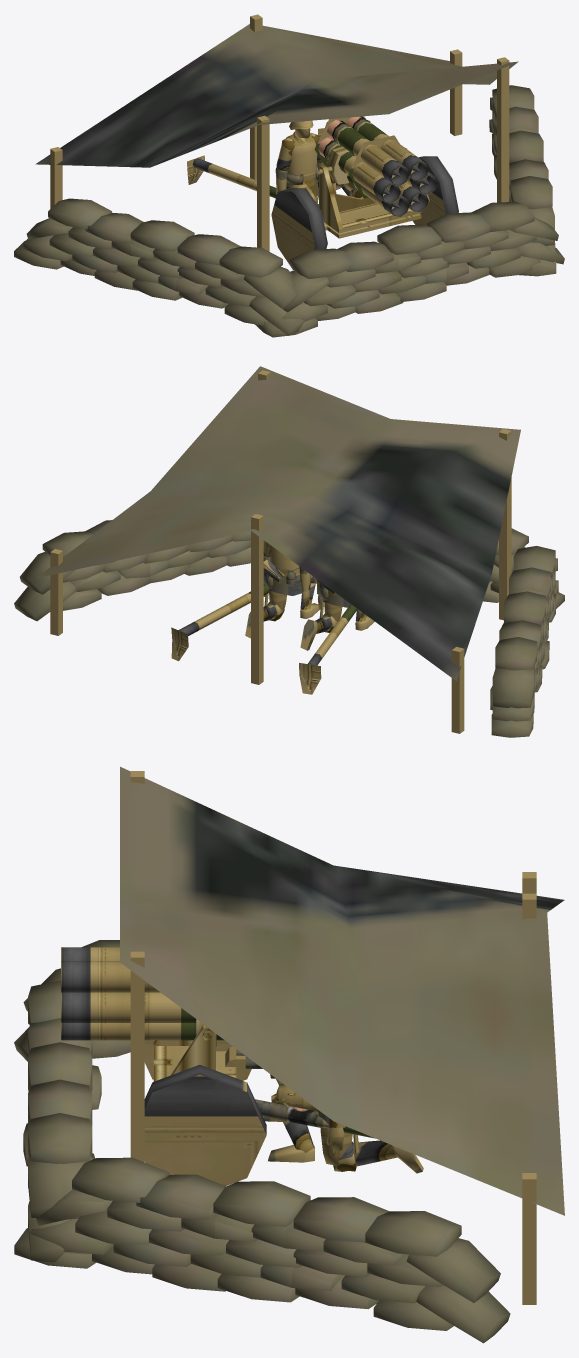
The model's file is GERNebelwerfer_Stationary.dae.
3 views of the same model, one above another, from view 1: azimuth 30°, elevation 25°; view 2: azimuth 150°, elevation 25°; view 3: azimuth 270°, elevation 25° (orthographic). The views are drawn at different scales.
Visible parts, largest first — view 1: base, carriage, tubes, torso1, ruparm1; view 2: base, carriage, torso2, torso1; view 3: base, carriage, tubes, lleg2, rleg2.
Boxes of the visible parts, x1,y1,x2,y2 form: base: (14, 14, 564, 337); carriage: (187, 128, 458, 269); tubes: (314, 116, 437, 216); torso1: (286, 131, 319, 196); ruparm1: (276, 137, 294, 170); base: (14, 366, 564, 737); carriage: (171, 584, 357, 694); torso2: (263, 545, 302, 606); torso1: (315, 578, 350, 617); base: (14, 766, 564, 1343); carriage: (144, 1025, 375, 1185); tubes: (61, 947, 224, 1046); lleg2: (332, 1140, 397, 1171); rleg2: (271, 1093, 313, 1152).
Bounding box in the file's own units: 51.33 × 30.95 × 18.15.
